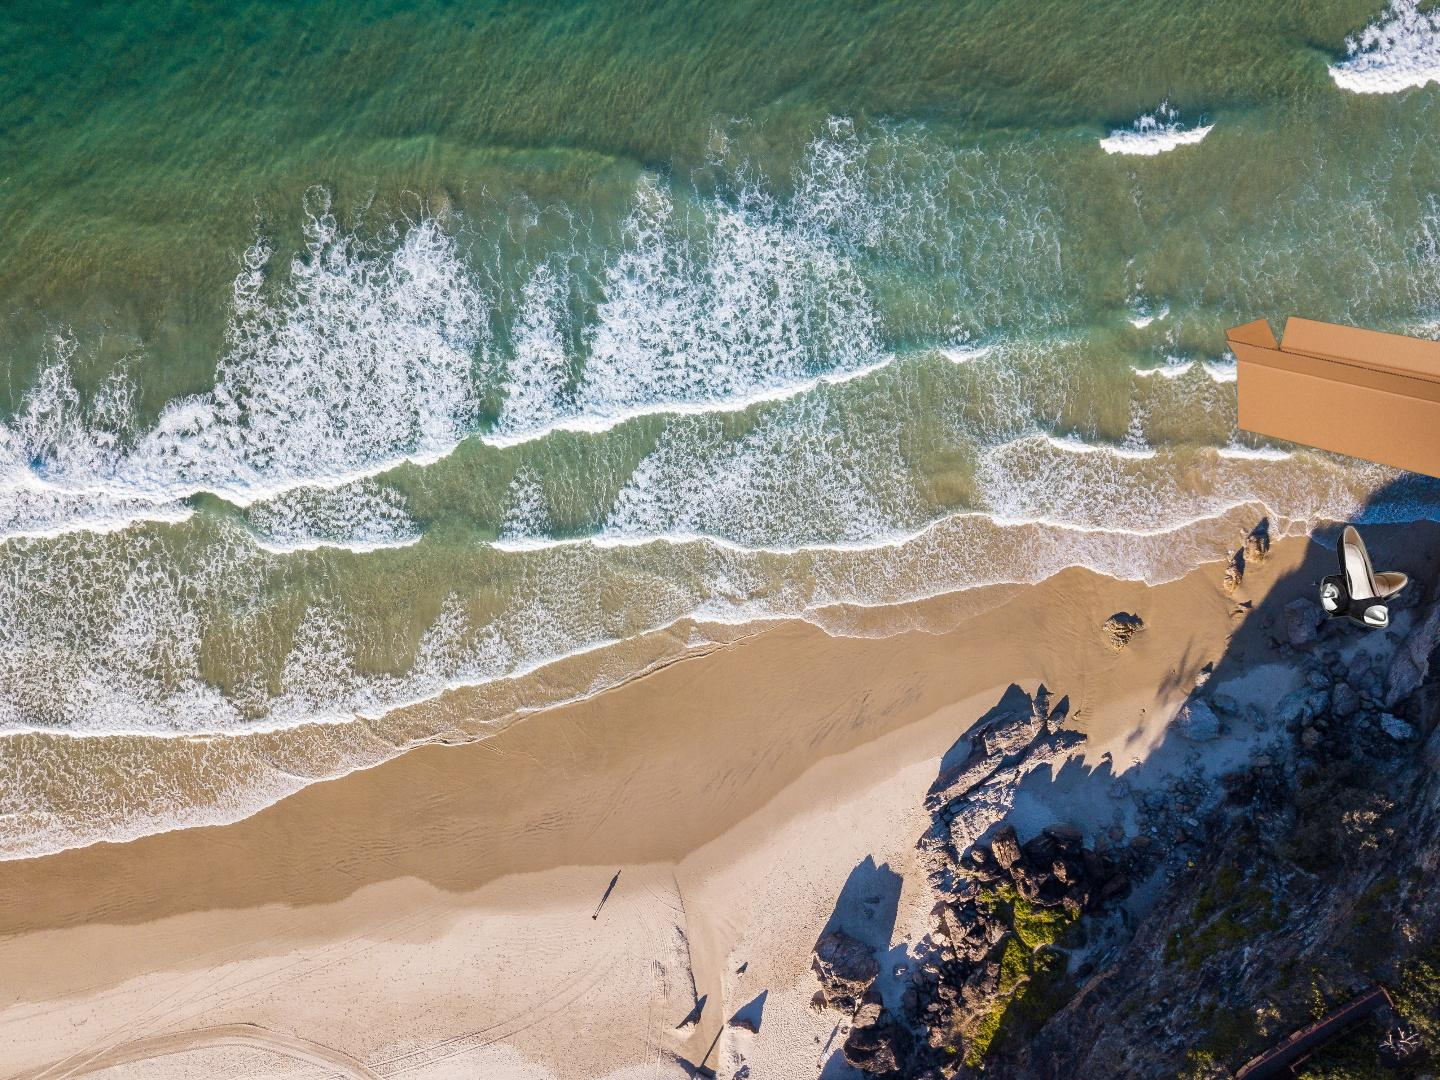shoes: (1316, 522, 1413, 631)
trashbox-cardboard: (1223, 313, 1440, 489)
